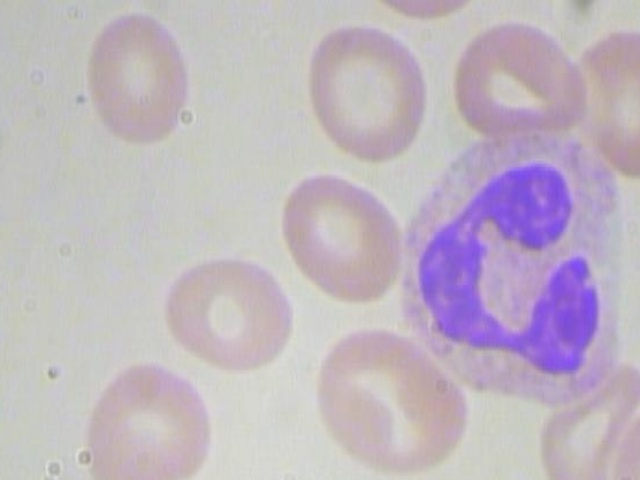RBC: (310, 317, 471, 480), (70, 0, 215, 160), (291, 14, 434, 168), (445, 9, 601, 138), (281, 158, 411, 309), (74, 354, 219, 480), (145, 254, 299, 370), (567, 28, 640, 182), (348, 0, 498, 27)
WBC: (398, 123, 635, 412)
